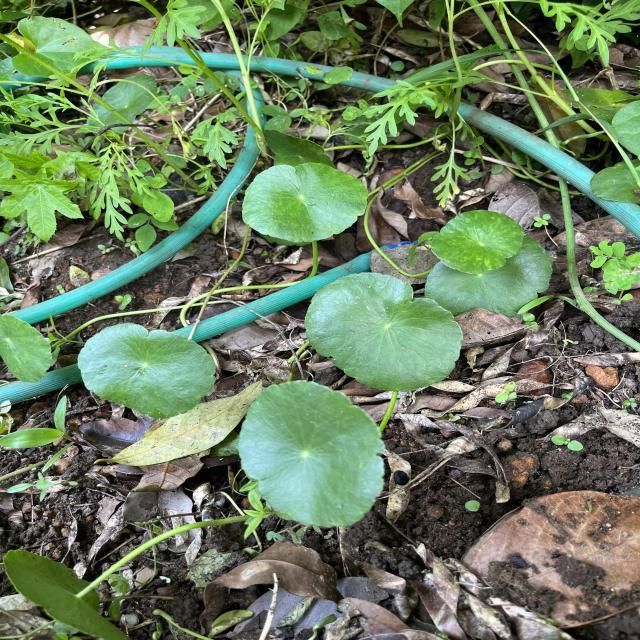Bacopa monnieri: (235, 377, 388, 529), (302, 268, 466, 394), (75, 320, 219, 420), (240, 161, 372, 245), (428, 208, 526, 276), (0, 312, 54, 386)
